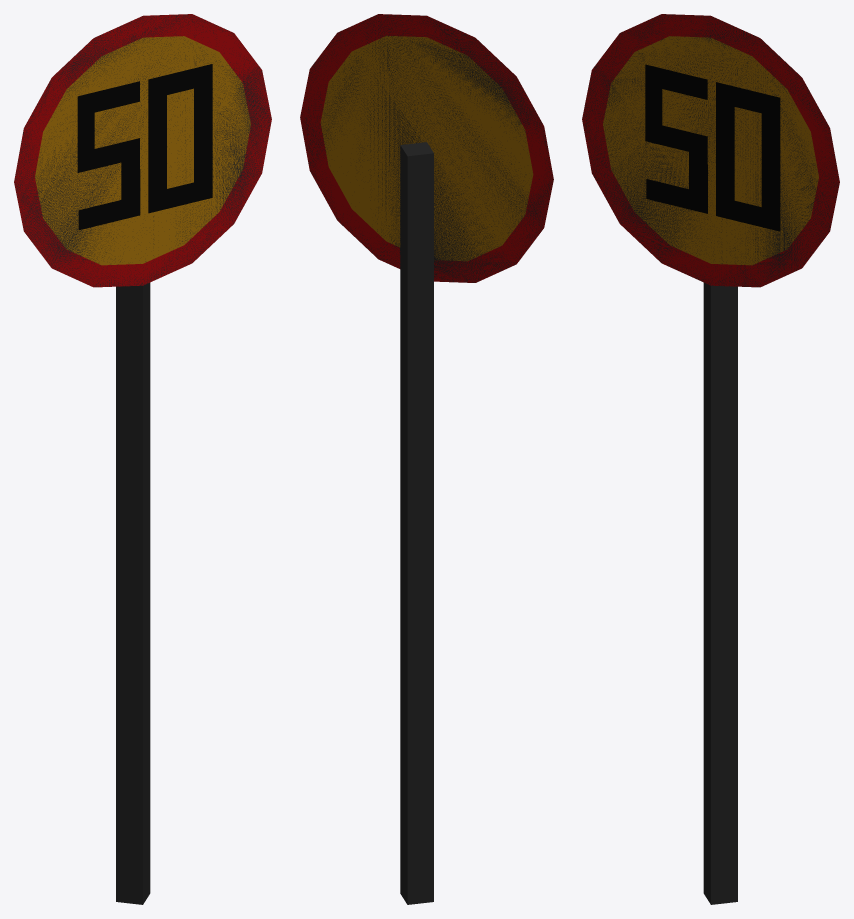
Rendered from 50kmh.obj.
3 renders of one model, left to right at view 1: azimuth 30°, elevation 25°; view 2: azimuth 150°, elevation 25°; view 3: azimuth 330°, elevation 25°, orthographic.
Parts seen in each view (by area): view 1: Cylinder.002; view 2: Cylinder.002; view 3: Cylinder.002.
Boxes of the visible parts, x1,y1,x2,y2 form: Cylinder.002: [14, 14, 271, 904]; Cylinder.002: [300, 14, 553, 904]; Cylinder.002: [582, 14, 839, 904].
Bounding box in the file's own units: 0.8957 × 2.95 × 0.1199.
